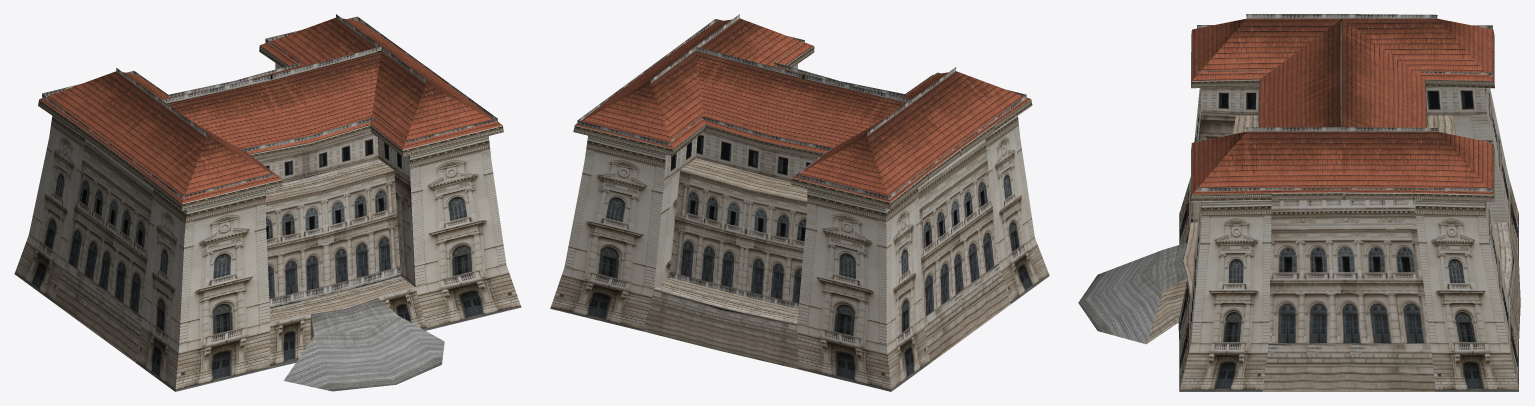
File: SM_Building_Governor_Palace_02.fbx
3 renders of one model, left to right at view 1: azimuth 30°, elevation 25°; view 2: azimuth 150°, elevation 25°; view 3: azimuth 270°, elevation 25°, orthographic. The views are drawn at different scales.
Visible parts, largest first — view 1: SM_Building_Governor_Palace_02; view 2: SM_Building_Governor_Palace_02; view 3: SM_Building_Governor_Palace_02.
Boxes of the visible parts, box(x1,y1,x2,y2) form: SM_Building_Governor_Palace_02: box(14, 14, 521, 391); SM_Building_Governor_Palace_02: box(550, 14, 1049, 391); SM_Building_Governor_Palace_02: box(1078, 14, 1520, 391).
Size of the model in its own units: 51.96 by 31.58 by 54.52.
